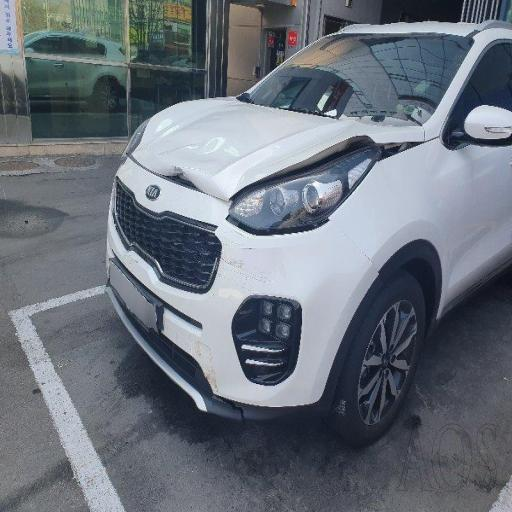scratch: (192, 231, 306, 348)
